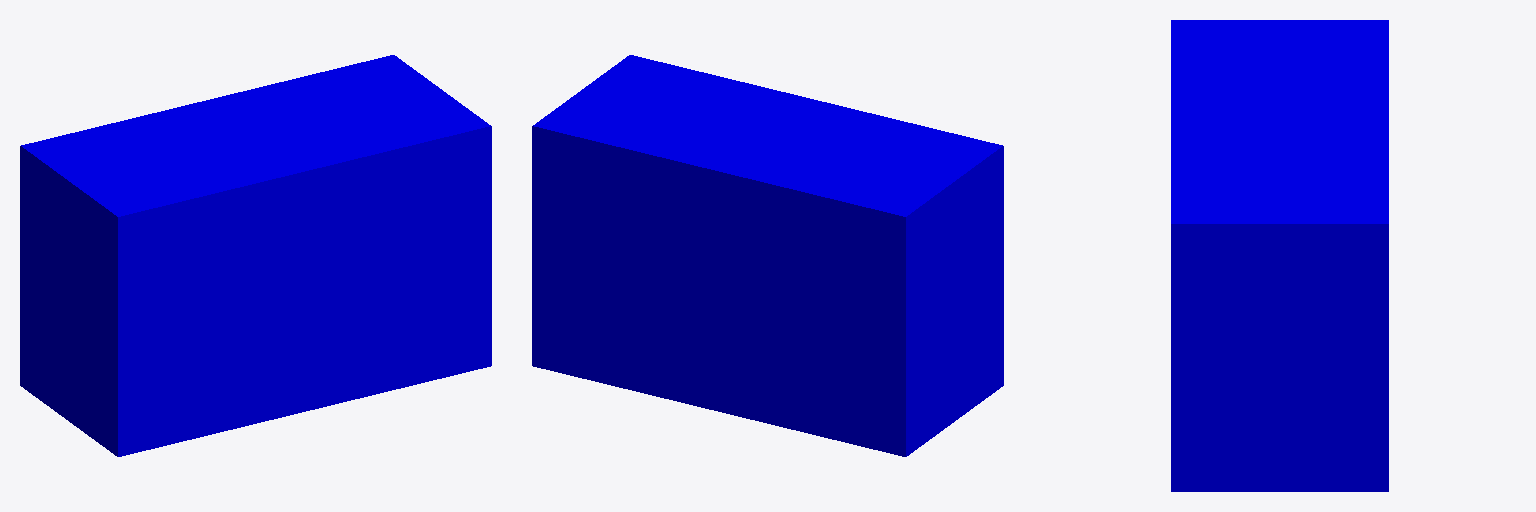
robot.urdf — airplane_box:
<robot name="airplane_box">
  <link name="airplane_box">
    <collision>
      <origin xyz="0 0 0.091" />
      <geometry>
        <box size="0.296 0.134 0.182" />
      </geometry>
    </collision>
    <visual>
      <origin xyz="0 0 0.091" />
      <material name="c">
        <color rgba="0 0 1.0 1.0" />
      </material>
      <geometry>
        <box size="0.296 0.134 0.182" />
      </geometry>
    </visual>
  </link>
</robot>

--- Facts derived from the render (not from the file) ---
Views: 3 orthographic renders of the robot side by side, from view 1: azimuth 30°, elevation 25°; view 2: azimuth 150°, elevation 25°; view 3: azimuth 270°, elevation 25°.
Robot: airplane_box — 1 links, 0 joints (none); root link airplane_box; default pose: every joint at zero.
Visible links, largest first — view 1: airplane_box; view 2: airplane_box; view 3: airplane_box.
Link boxes in pixels (x1,y1,x2,y2): airplane_box: (20,55,491,456); airplane_box: (532,55,1003,456); airplane_box: (1171,20,1388,491).
Bounding box of the posed robot: 0.296 × 0.134 × 0.182 m (x, y, z).
Geometry: primitives only (box / cylinder / sphere), no mesh files.